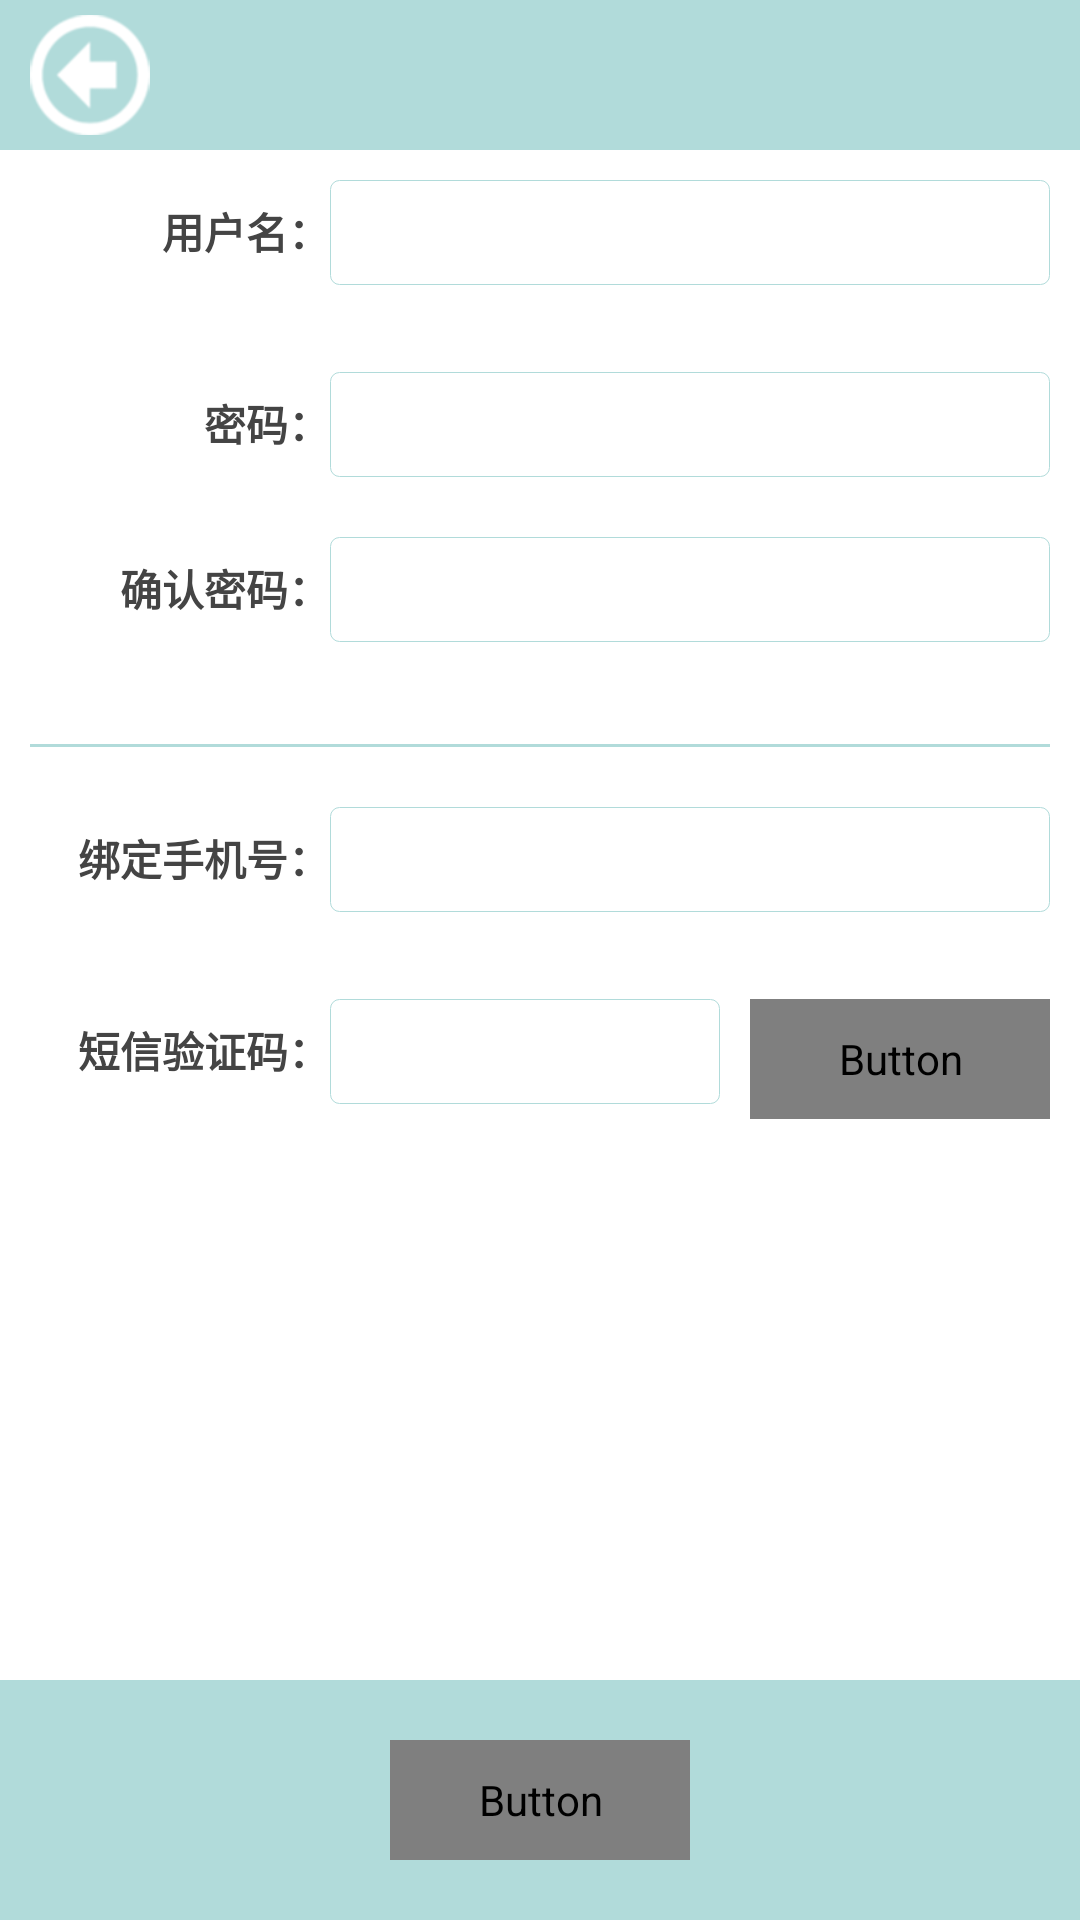

Icons on this 1080px×1920px Android screen, each with its box as (x1, y1, x2, y2):
back: (30, 15, 150, 135)
